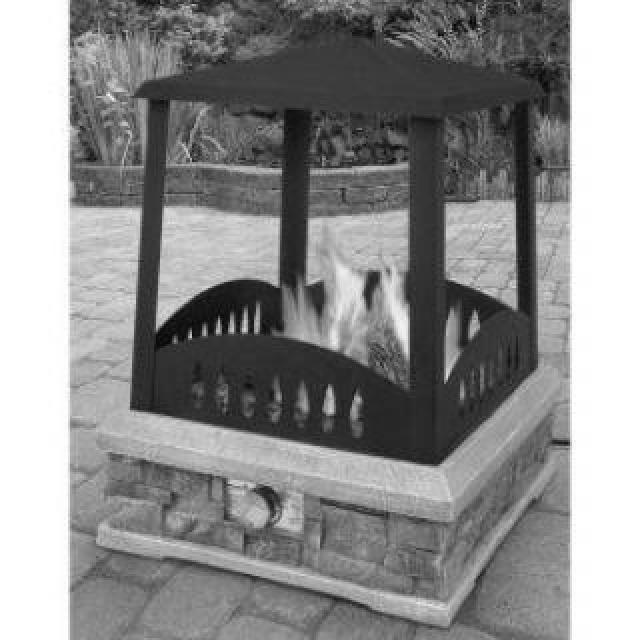Fire: (268, 226, 448, 412)
